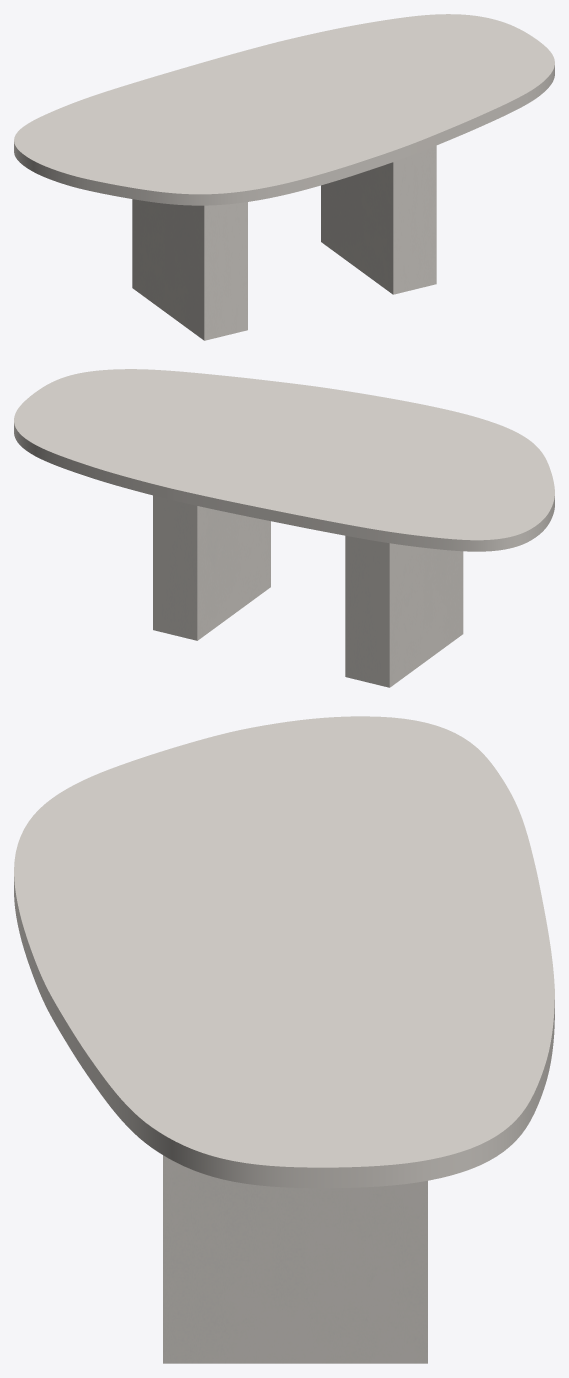
Rendered from pearlwhite_leaf2_standard_ridge.glb.
The picture shows the model from 3 angles, top to bottom: view 1: azimuth 30°, elevation 25°; view 2: azimuth 150°, elevation 25°; view 3: azimuth 270°, elevation 25°; orthographic projection. The views are drawn at different scales.
Parts seen in each view (by area): view 1: standard_leaf2, ridge; view 2: standard_leaf2, ridge; view 3: standard_leaf2, ridge.
Boxes of the visible parts, bbox=[...] form: standard_leaf2: bbox=[14, 14, 554, 205]; ridge: bbox=[132, 145, 436, 340]; standard_leaf2: bbox=[14, 369, 554, 551]; ridge: bbox=[153, 495, 463, 687]; standard_leaf2: bbox=[14, 716, 554, 1188]; ridge: bbox=[163, 1155, 427, 1363].
Bounding box in the file's own units: 7.5 × 2.52 × 3.8.
1 material, 1 textured.
